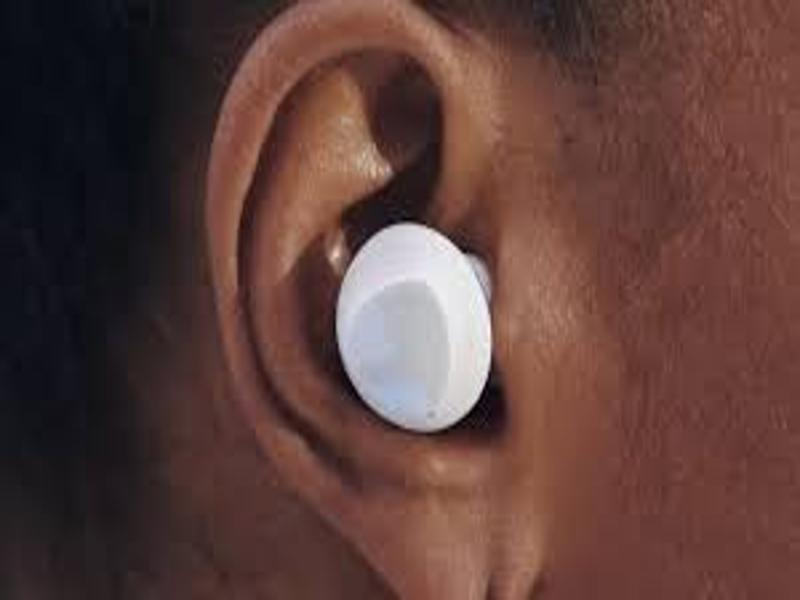headphone: (337, 219, 496, 435)
